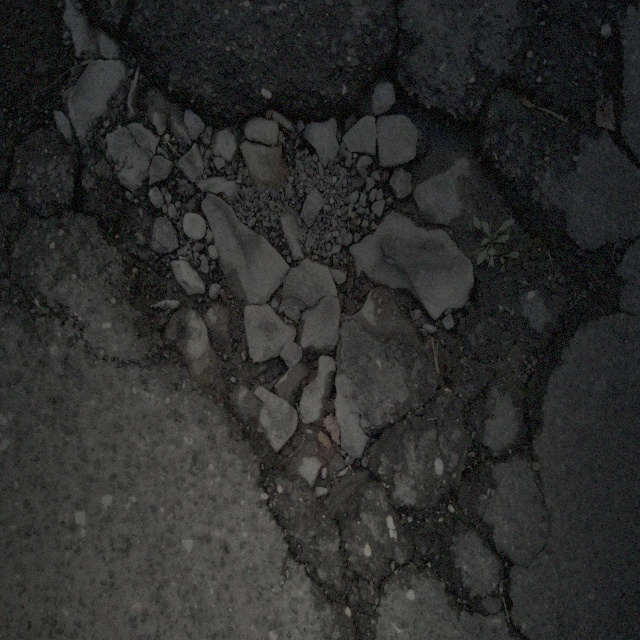pothole: (104, 57, 590, 608)
